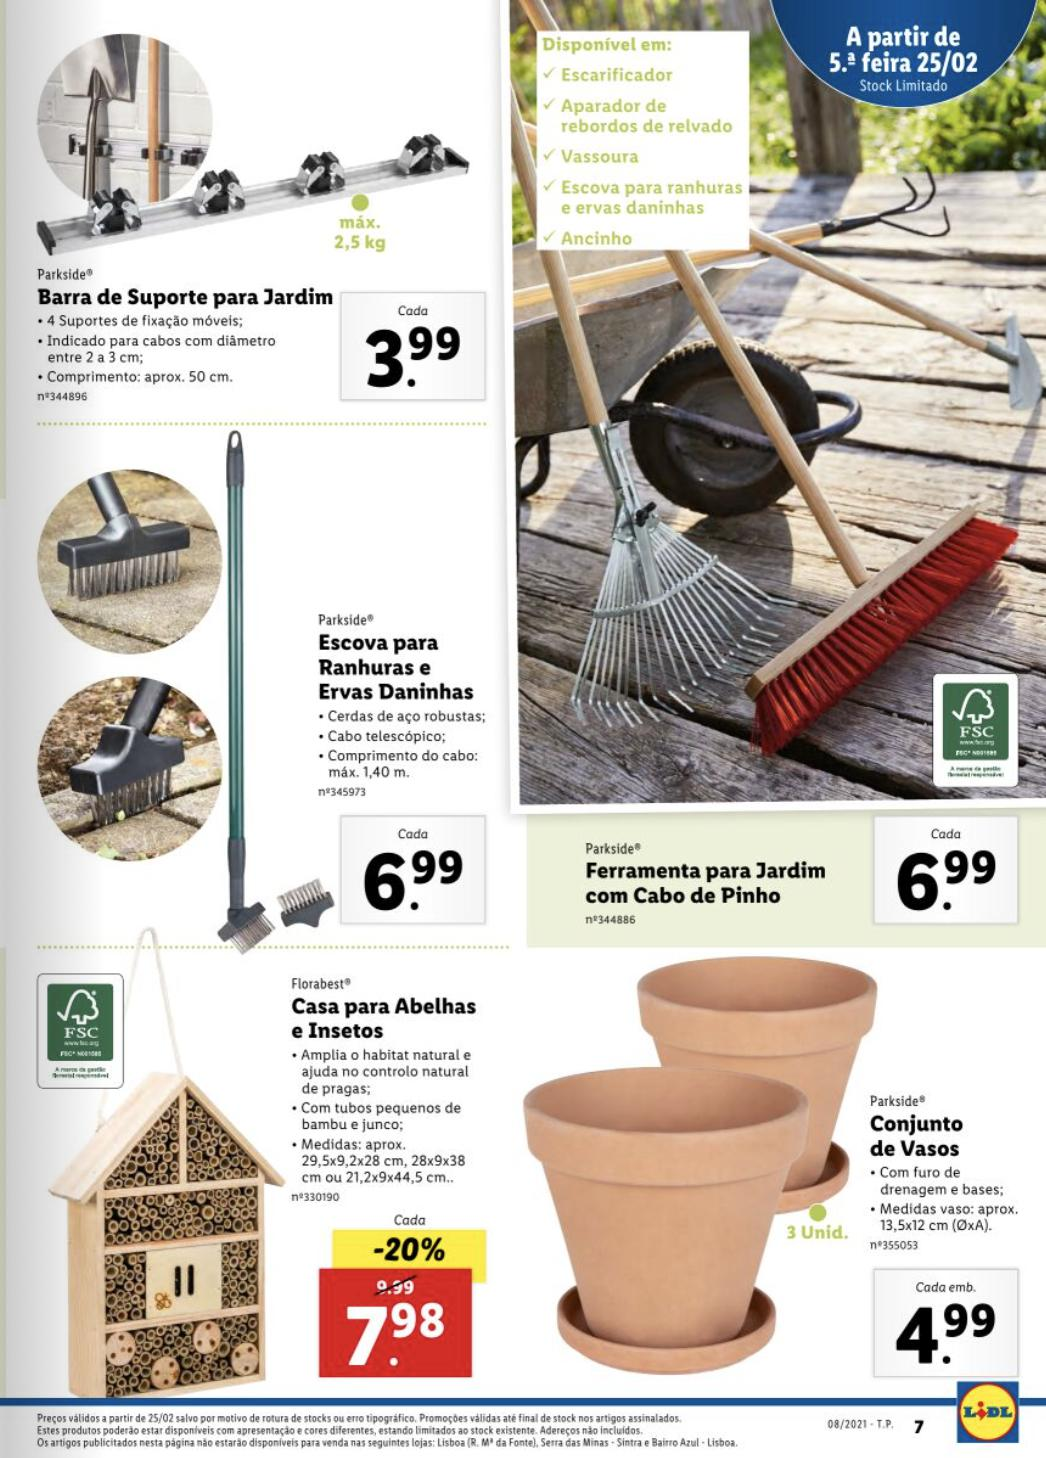name: (312, 628, 477, 706), (290, 990, 483, 1044), (31, 281, 337, 312), (864, 1110, 972, 1164)
price: (872, 1292, 1021, 1383), (319, 1297, 472, 1379), (341, 317, 486, 401), (338, 841, 481, 924)
product: (511, 299, 1023, 932), (28, 434, 490, 961), (518, 961, 1035, 1392), (12, 964, 492, 1404), (22, 23, 492, 413)
promotion: (368, 1228, 452, 1268)
